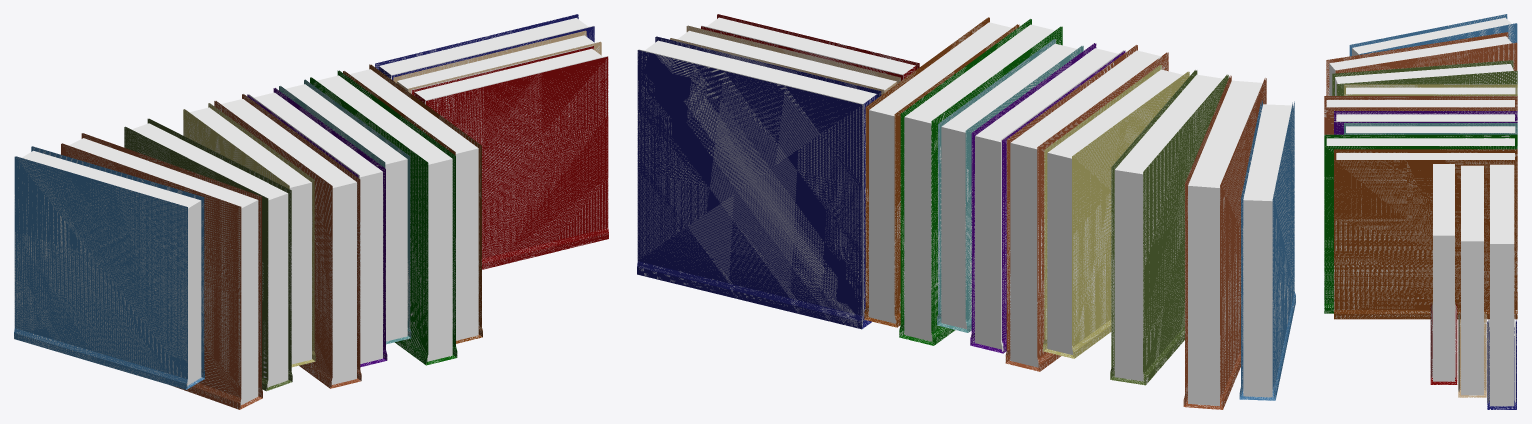
3 renders of one model, left to right at view 1: azimuth 30°, elevation 25°; view 2: azimuth 150°, elevation 25°; view 3: azimuth 270°, elevation 25°, orthographic. The views are drawn at different scales.
Parts seen in each view (by area): view 1: books; view 2: books; view 3: books.
Part boxes in pixels (x1,y1,x2,y2): books: (14,14,608,409); books: (637,14,1295,409); books: (1324,14,1517,409).
Size of the model in its own units: 30.87 by 10.53 by 11.02.
